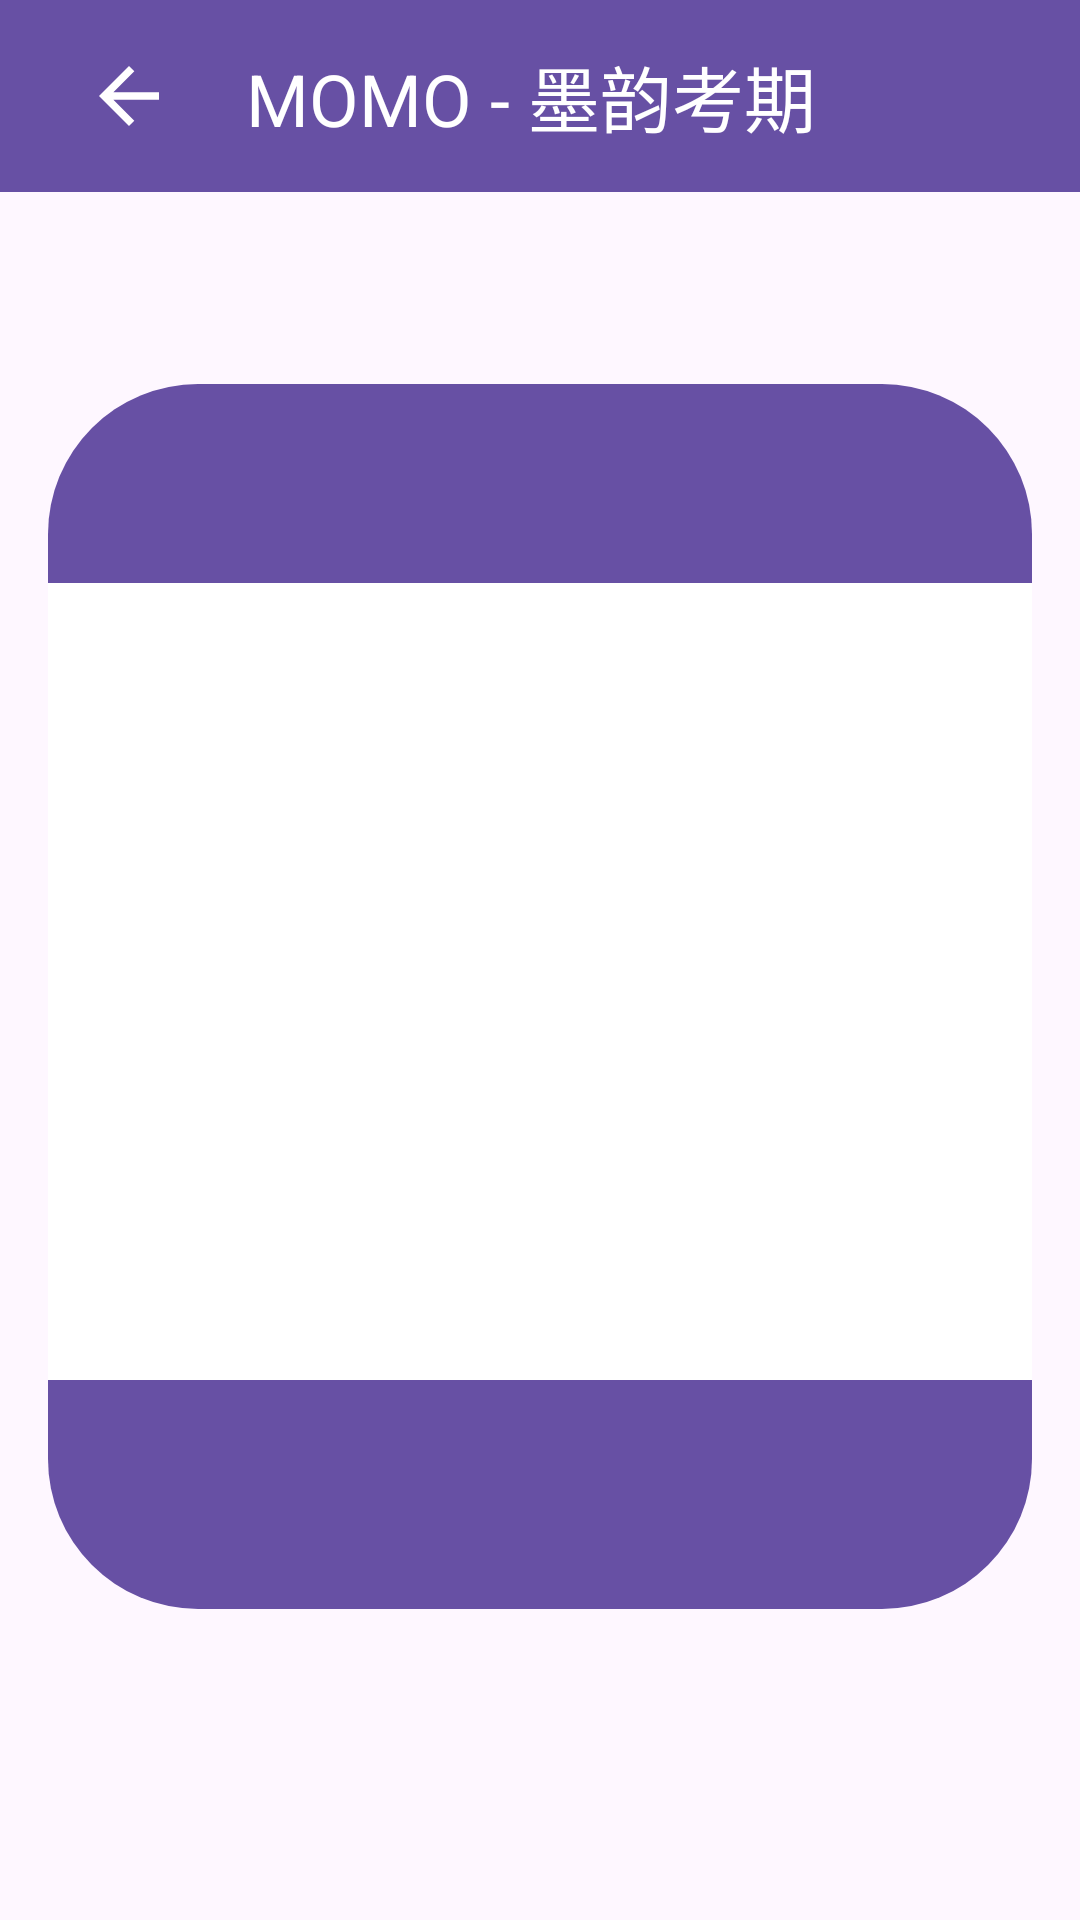

Point at icon controls on the screen. Image size 1080 × 1920, points as [x,y].
back: [129,96]
